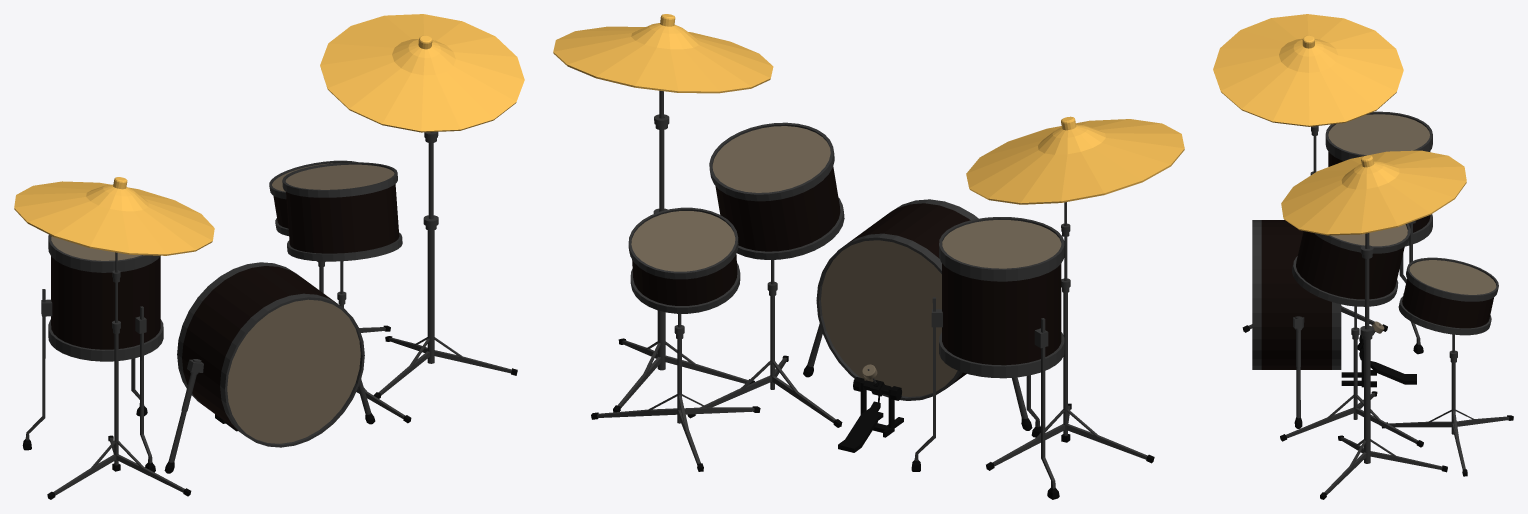
File: Drums.obj
The picture shows the model from 3 angles, left to right: view 1: azimuth 30°, elevation 25°; view 2: azimuth 150°, elevation 25°; view 3: azimuth 270°, elevation 25°; orthographic projection. The views are drawn at different scales.
Parts seen in each view (by area): view 1: Cube.002_Cube.012_Cymbols, Cube.002_Cube.012_Wood, Cube.002_Cube.012_Metal, Cube.002_Cube.012_Drum_Top, Cube.002_Cube.012_Black; view 2: Cube.002_Cube.012_Drum_Top, Cube.002_Cube.012_Cymbols, Cube.002_Cube.012_Metal, Cube.002_Cube.012_Wood, Cube.002_Cube.012_Black; view 3: Cube.002_Cube.012_Cymbols, Cube.002_Cube.012_Wood, Cube.002_Cube.012_Metal, Cube.002_Cube.012_Drum_Top, Cube.002_Cube.012_Black.
Part boxes in pixels (x1,y1,x2,y2): Cube.002_Cube.012_Cymbols: (14,14,524,255); Cube.002_Cube.012_Wood: (51,184,399,431); Cube.002_Cube.012_Metal: (25,132,511,495); Cube.002_Cube.012_Drum_Top: (51,163,394,443); Cube.002_Cube.012_Black: (22,325,517,499); Cube.002_Cube.012_Drum_Top: (631,126,1061,396); Cube.002_Cube.012_Cymbols: (553,14,1184,204); Cube.002_Cube.012_Metal: (597,90,1147,488); Cube.002_Cube.012_Wood: (632,167,1061,383); Cube.002_Cube.012_Black: (591,338,1154,499); Cube.002_Cube.012_Cymbols: (1213,14,1466,235); Cube.002_Cube.012_Wood: (1261,151,1493,369); Cube.002_Cube.012_Metal: (1248,111,1509,494); Cube.002_Cube.012_Drum_Top: (1328,114,1496,333); Cube.002_Cube.012_Black: (1242,293,1513,499).
Bounding box in the file's own units: 972 × 603 × 526.
